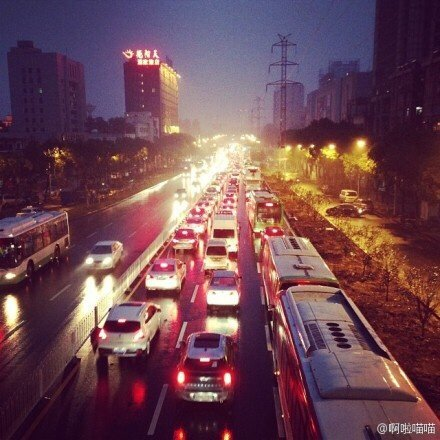bus: (264, 284, 440, 440), (1, 205, 70, 284)
car: (206, 268, 242, 308), (145, 258, 188, 290), (85, 238, 123, 272), (171, 227, 200, 250), (185, 216, 210, 234), (189, 206, 211, 221)
suv: (174, 330, 239, 403), (93, 302, 162, 358)
truck: (207, 212, 240, 256)
